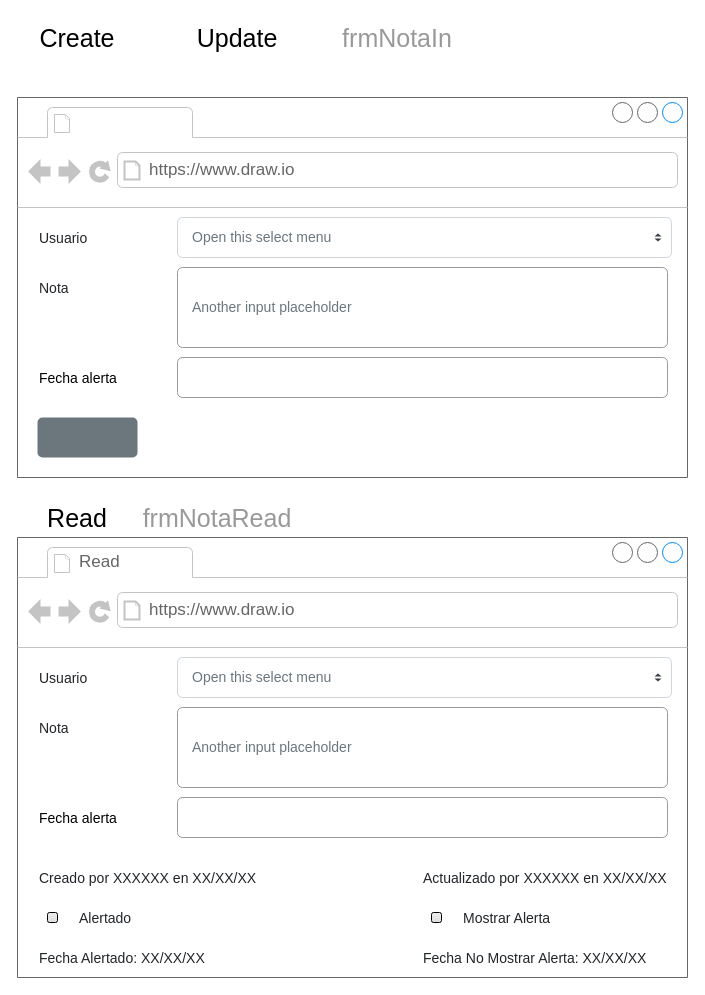
The diagram is 705 pixels wide and 995 high, and some of its shapes have lost their labels. Here are the shapes that lost their labels. From the top down, the box of each, then its label:
(76, 108, 258, 136): Create/Update Nota
(37, 417, 137, 457): Guardar
